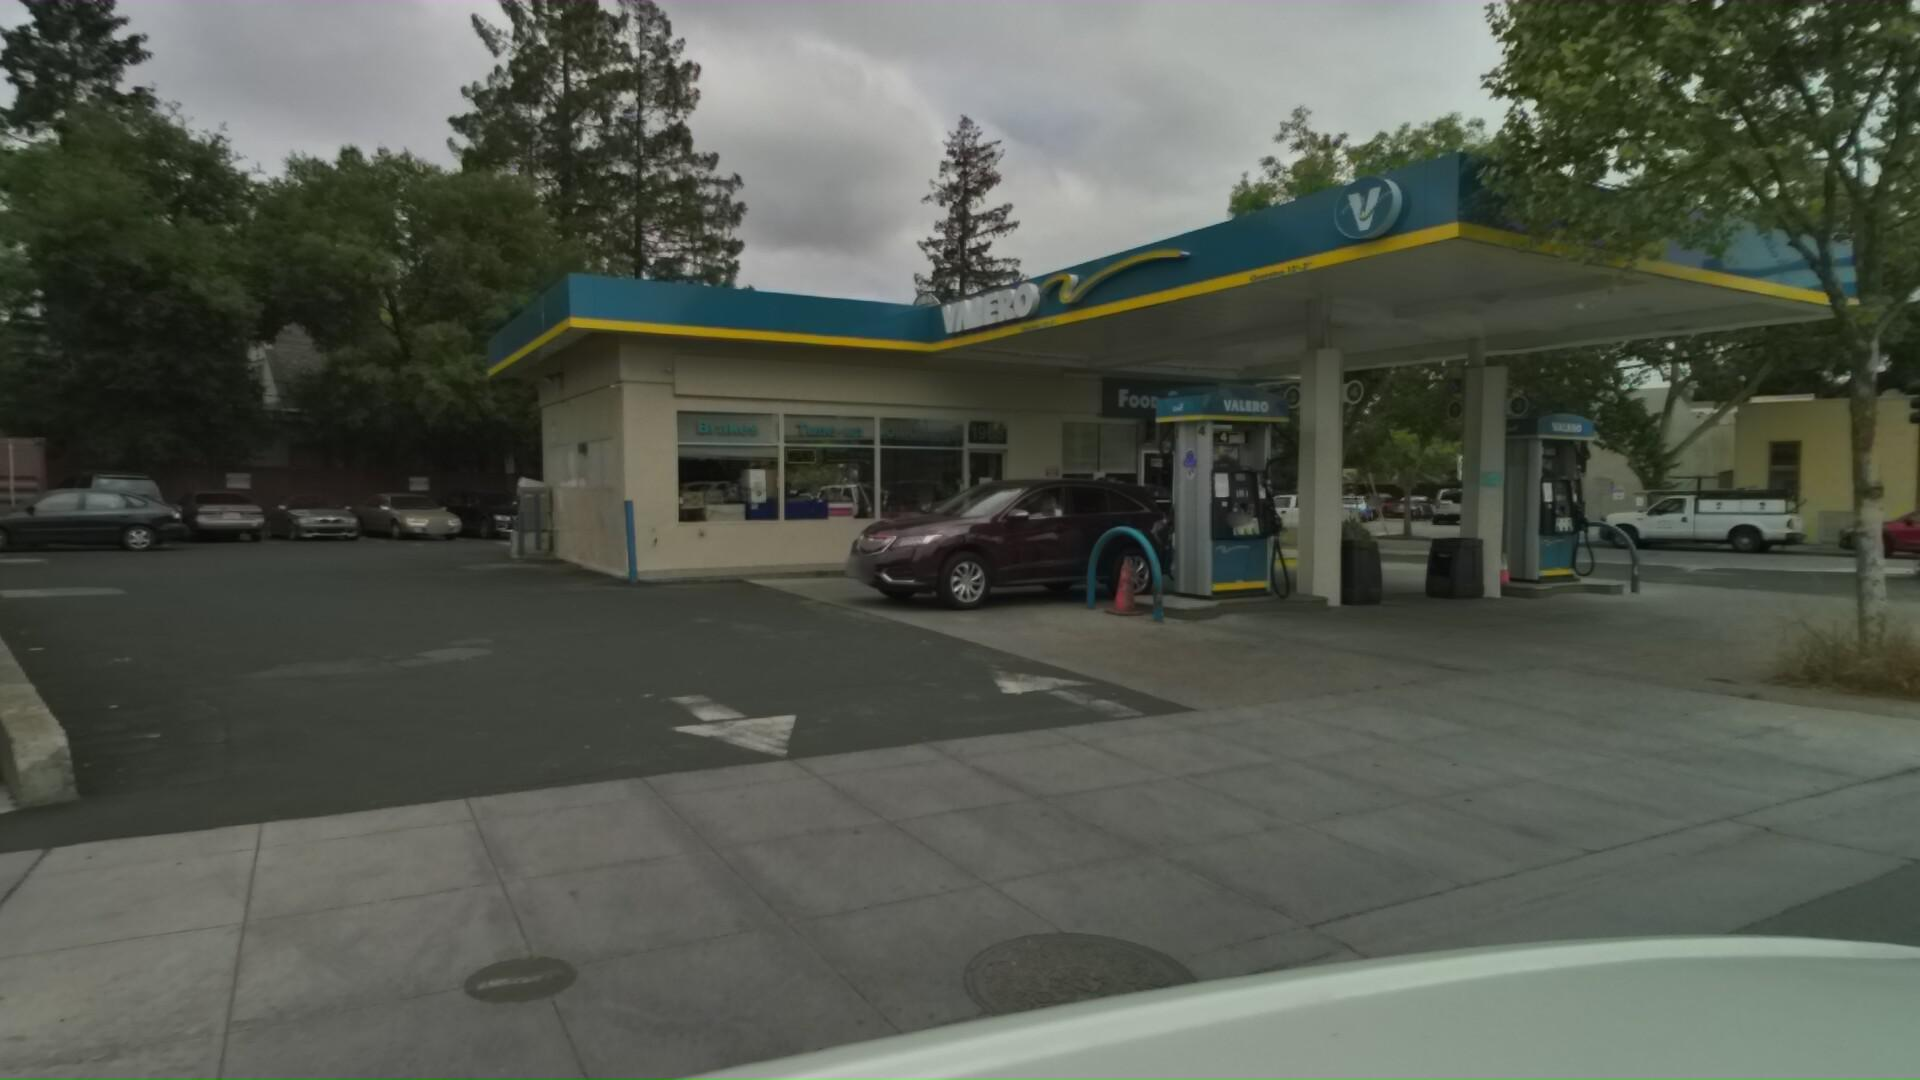car: (856, 459, 1234, 612), (1600, 475, 1816, 551), (73, 468, 208, 547), (1236, 472, 1373, 535), (365, 485, 491, 542), (454, 483, 570, 541), (182, 485, 299, 542), (273, 487, 390, 541), (1844, 493, 1920, 560)
